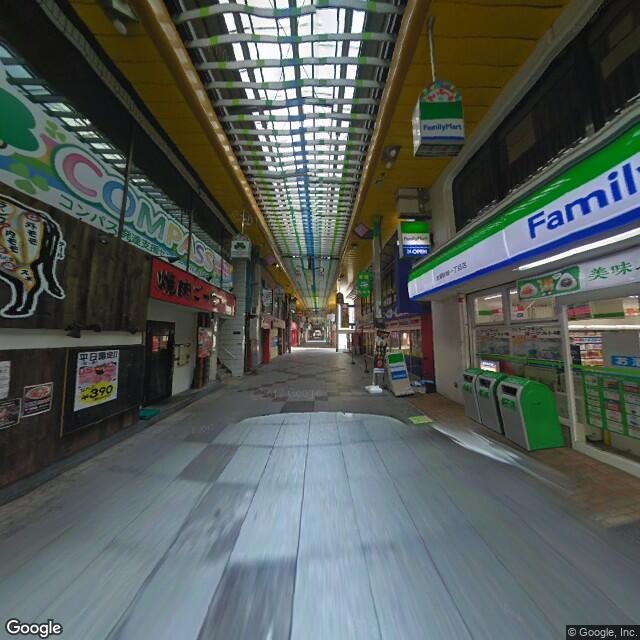family_mart: (407, 114, 637, 300), (418, 97, 462, 145), (396, 214, 430, 257), (383, 350, 411, 386)
